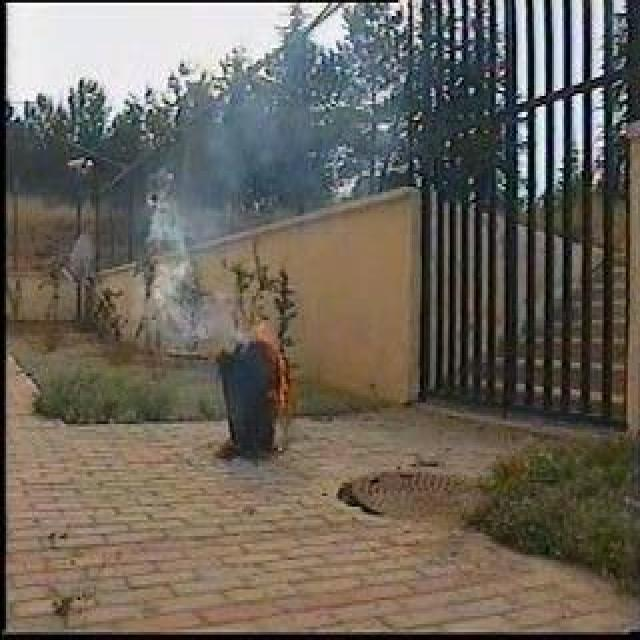fire: (270, 334, 290, 414)
smoke: (146, 176, 244, 339)
